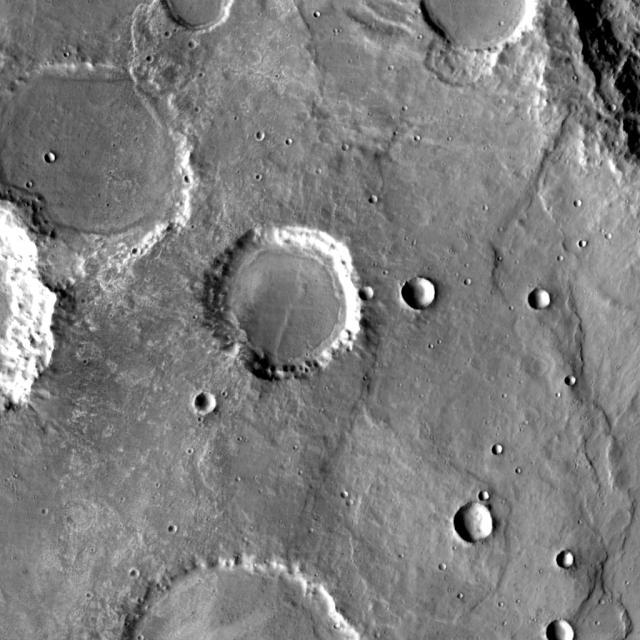crater: (0, 60, 199, 276), (208, 226, 369, 380), (431, 20, 501, 88), (38, 242, 90, 293), (165, 0, 237, 36), (458, 503, 499, 543), (66, 498, 105, 536), (407, 278, 440, 311), (549, 620, 578, 640), (533, 288, 555, 310), (200, 394, 222, 414), (560, 552, 580, 570), (454, 238, 472, 255), (364, 287, 378, 301), (482, 489, 495, 502), (48, 153, 61, 165), (496, 445, 506, 456), (569, 377, 580, 387), (136, 571, 145, 580), (193, 40, 202, 49), (374, 196, 383, 204), (442, 563, 451, 571), (190, 177, 198, 185), (612, 104, 620, 112), (144, 47, 152, 55), (137, 248, 145, 256), (262, 134, 269, 142), (468, 279, 476, 286), (577, 233, 584, 241), (344, 492, 352, 499), (572, 193, 579, 200), (85, 588, 92, 594), (344, 494, 351, 500)
